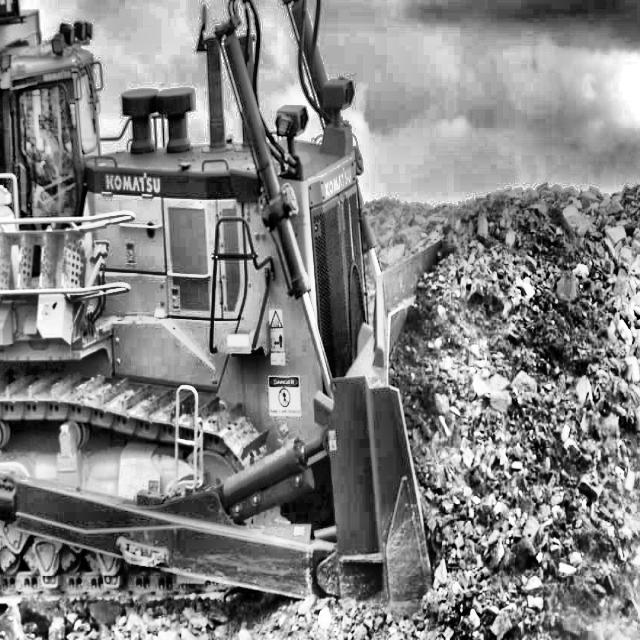buldozerpayloadergrader: (0, 0, 440, 640)
